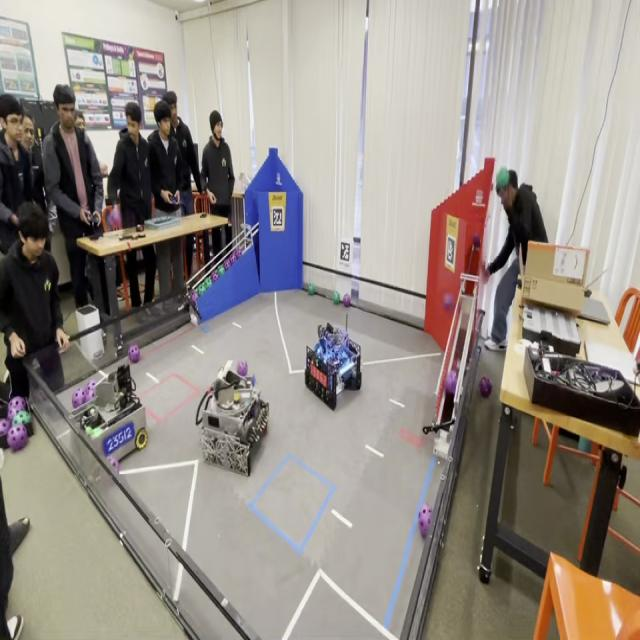artifact_green: (496, 168, 509, 191), (108, 208, 122, 229), (12, 411, 31, 426), (85, 380, 97, 398), (86, 387, 96, 402), (197, 283, 207, 297), (188, 290, 197, 305), (333, 291, 341, 304), (204, 278, 212, 289), (229, 253, 236, 265), (235, 247, 242, 259), (308, 283, 315, 295), (218, 266, 226, 276), (224, 259, 231, 270), (212, 272, 219, 283), (200, 280, 207, 290)
artifact_purple: (7, 425, 27, 452), (7, 396, 27, 421), (418, 504, 431, 538), (72, 387, 86, 409), (445, 370, 457, 394), (8, 396, 27, 411), (479, 377, 492, 398), (12, 412, 31, 426), (108, 209, 122, 228), (85, 381, 97, 401), (128, 345, 140, 363), (7, 407, 19, 423), (0, 419, 11, 436), (108, 456, 119, 472), (444, 293, 453, 311), (86, 387, 96, 402), (237, 361, 247, 376), (189, 290, 197, 305), (452, 360, 461, 373), (473, 234, 481, 248), (224, 258, 232, 270), (212, 271, 220, 282), (343, 294, 350, 306), (236, 248, 242, 259), (230, 253, 236, 264), (252, 375, 255, 387)
